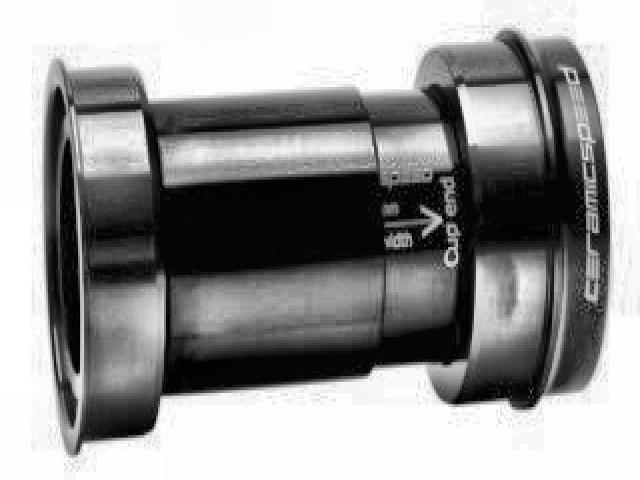bottom_bracket: (40, 23, 613, 458)
